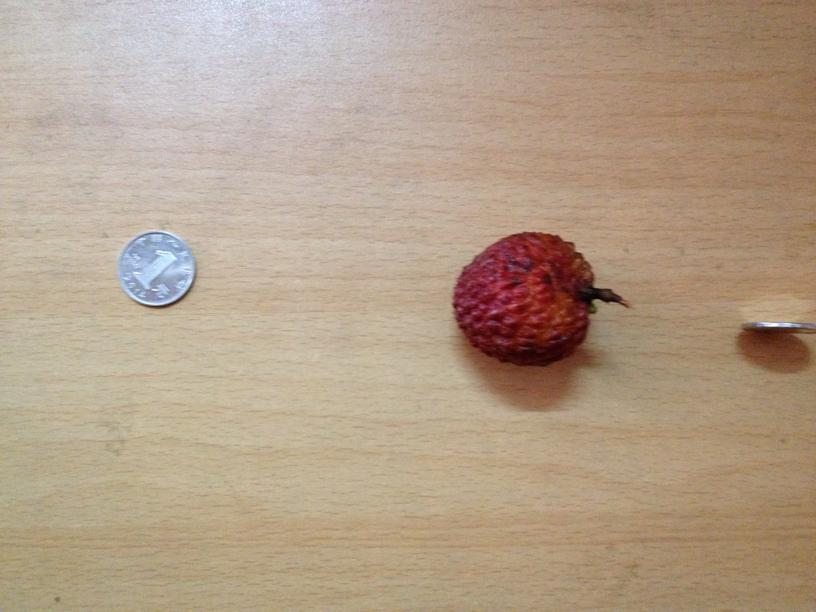coin: (116, 229, 195, 308)
litchi: (453, 236, 596, 368)
